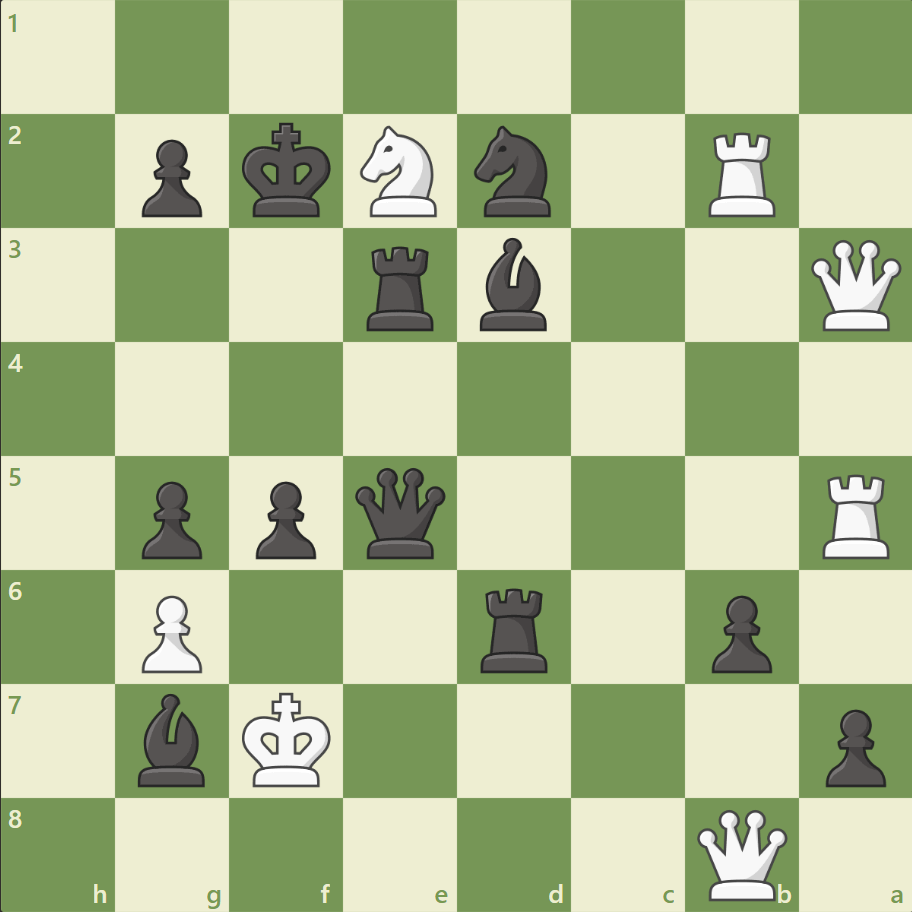K: (238, 685, 338, 793)
N: (351, 121, 449, 223)
P: (133, 586, 208, 677)
Q: (691, 804, 790, 903), (805, 236, 904, 335)
R: (814, 466, 897, 563), (700, 125, 783, 222)
b: (131, 687, 215, 790), (471, 233, 555, 336)
k: (238, 117, 338, 225)
n: (465, 121, 562, 223)
p: (701, 586, 776, 677), (247, 473, 322, 564), (133, 473, 208, 564), (133, 132, 208, 223), (815, 700, 889, 791)
q: (351, 463, 450, 562)
r: (473, 579, 556, 676), (360, 239, 442, 336)
